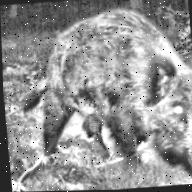boar: (32, 0, 192, 191)
